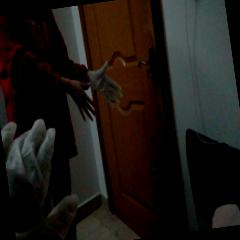gloved: (0, 114, 85, 239), (88, 59, 124, 110)
not-gloved: (66, 76, 96, 125)
